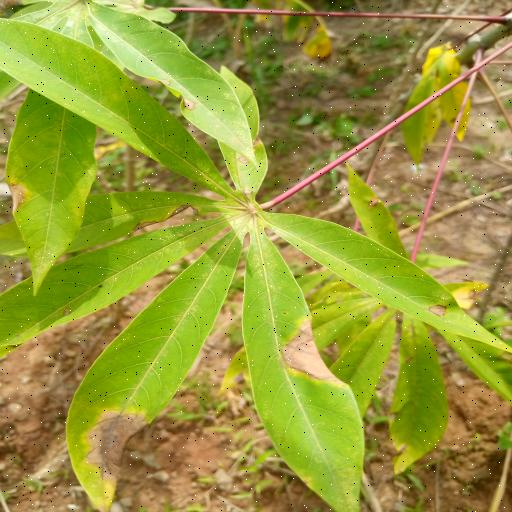Cassava_Brown_Leaf_Spot: (0, 59, 510, 509)
